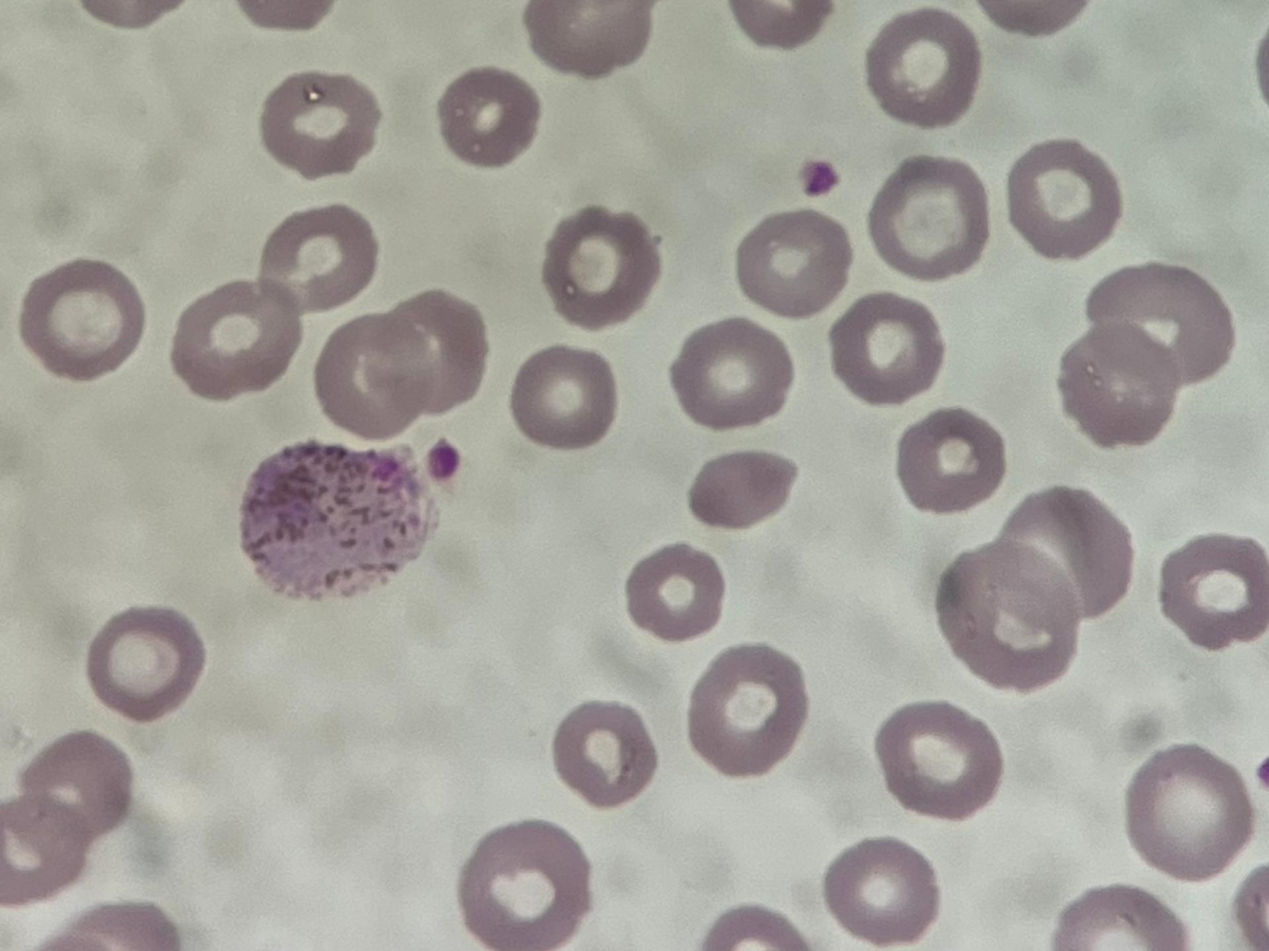Infected: (242, 437, 448, 602)
Uninfected: (938, 538, 1089, 691), (1083, 263, 1231, 386), (1007, 486, 1137, 622), (1124, 745, 1251, 878), (459, 823, 591, 950), (17, 256, 148, 381), (542, 203, 664, 337), (687, 643, 810, 775), (313, 314, 438, 439), (872, 701, 1001, 821), (867, 154, 991, 278), (172, 281, 301, 400), (1061, 323, 1180, 444), (864, 9, 983, 129), (85, 605, 204, 722), (670, 318, 793, 430), (1006, 140, 1120, 260), (375, 292, 489, 411), (732, 206, 852, 318), (259, 68, 381, 178), (14, 730, 130, 845), (827, 295, 945, 408), (260, 204, 379, 312), (1154, 535, 1267, 648), (824, 837, 939, 944), (893, 407, 1006, 512), (551, 700, 658, 808), (511, 342, 617, 449), (436, 67, 542, 169), (0, 797, 98, 905), (624, 545, 725, 641), (527, 3, 655, 78), (687, 447, 796, 530)
